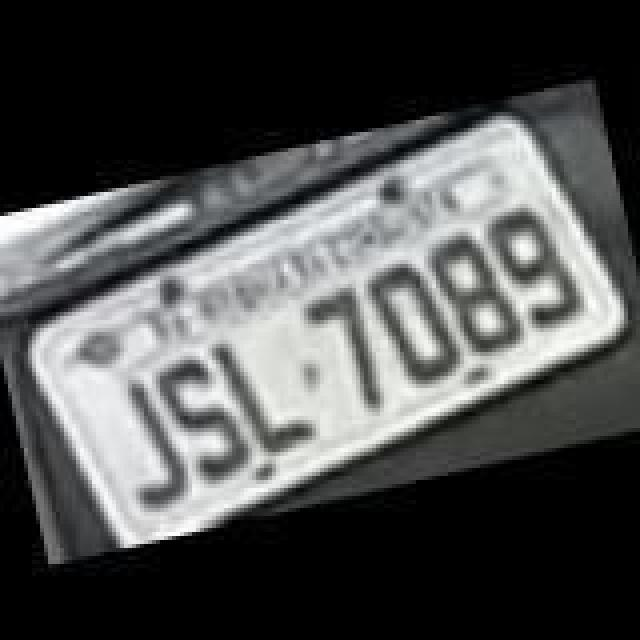7: (294, 284, 394, 420)
8: (428, 218, 532, 358)
9: (480, 192, 592, 336)
J: (108, 366, 196, 514)
L: (204, 320, 324, 464)
O: (364, 250, 468, 390)
S: (156, 344, 252, 488)
